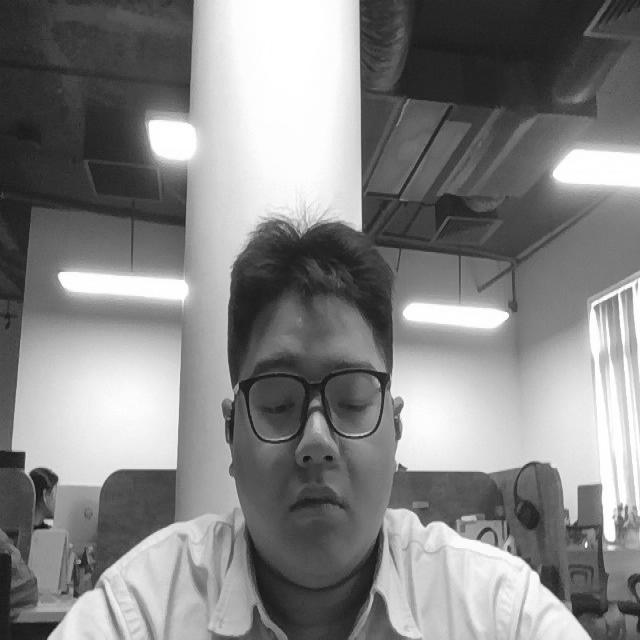real: (202, 162, 425, 620), (239, 382, 391, 442)
